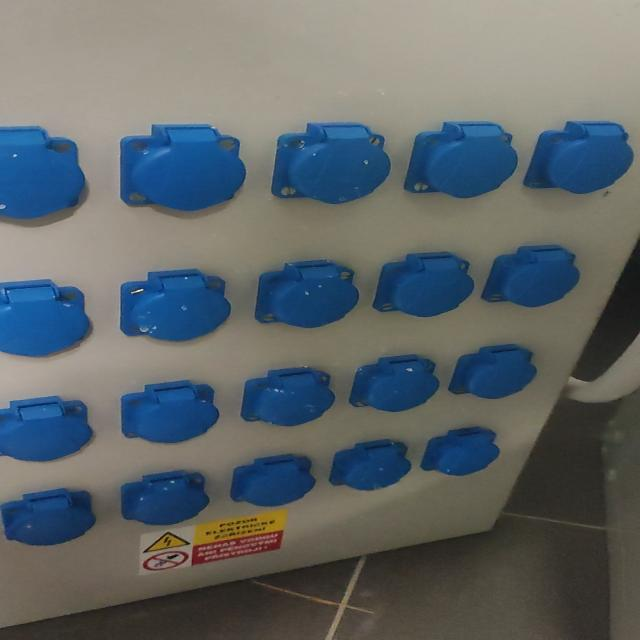house plug covered: (120, 124, 247, 212), (270, 122, 391, 204), (403, 121, 519, 199), (119, 269, 232, 344), (0, 126, 87, 220), (523, 121, 635, 194), (0, 279, 92, 356), (255, 262, 358, 328), (0, 396, 92, 463), (119, 383, 217, 445), (376, 255, 471, 318), (485, 246, 578, 308), (241, 367, 336, 426), (0, 488, 96, 546), (349, 354, 440, 412), (121, 470, 210, 526), (449, 344, 537, 399), (230, 454, 316, 506), (329, 439, 412, 491), (420, 427, 500, 476)
